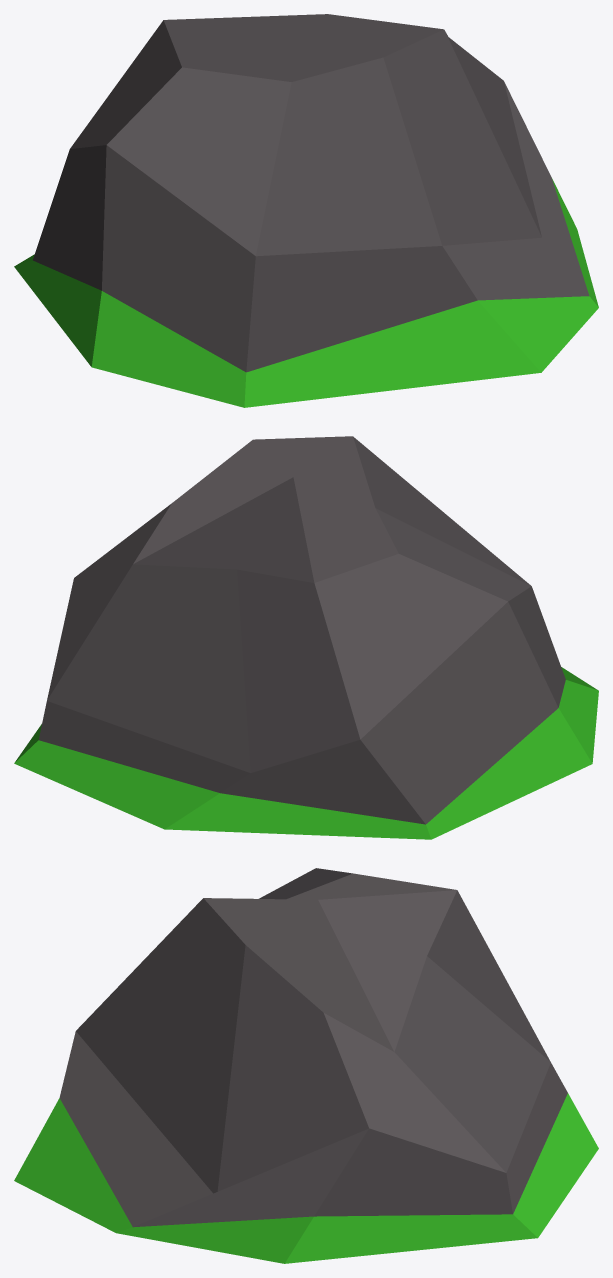
File: boulder4.fbx
3 views of the same model, one above another, from view 1: azimuth 30°, elevation 25°; view 2: azimuth 150°, elevation 25°; view 3: azimuth 270°, elevation 25° (orthographic). The views are drawn at different scales.
Visible parts, largest first — view 1: Circle.010; view 2: Circle.010; view 3: Circle.010.
Part boxes in pixels (x1,y1,x2,y2): Circle.010: (14,14,598,407); Circle.010: (14,436,598,839); Circle.010: (14,868,598,1263).
Size of the model in its own units: 543 by 266 by 556.
